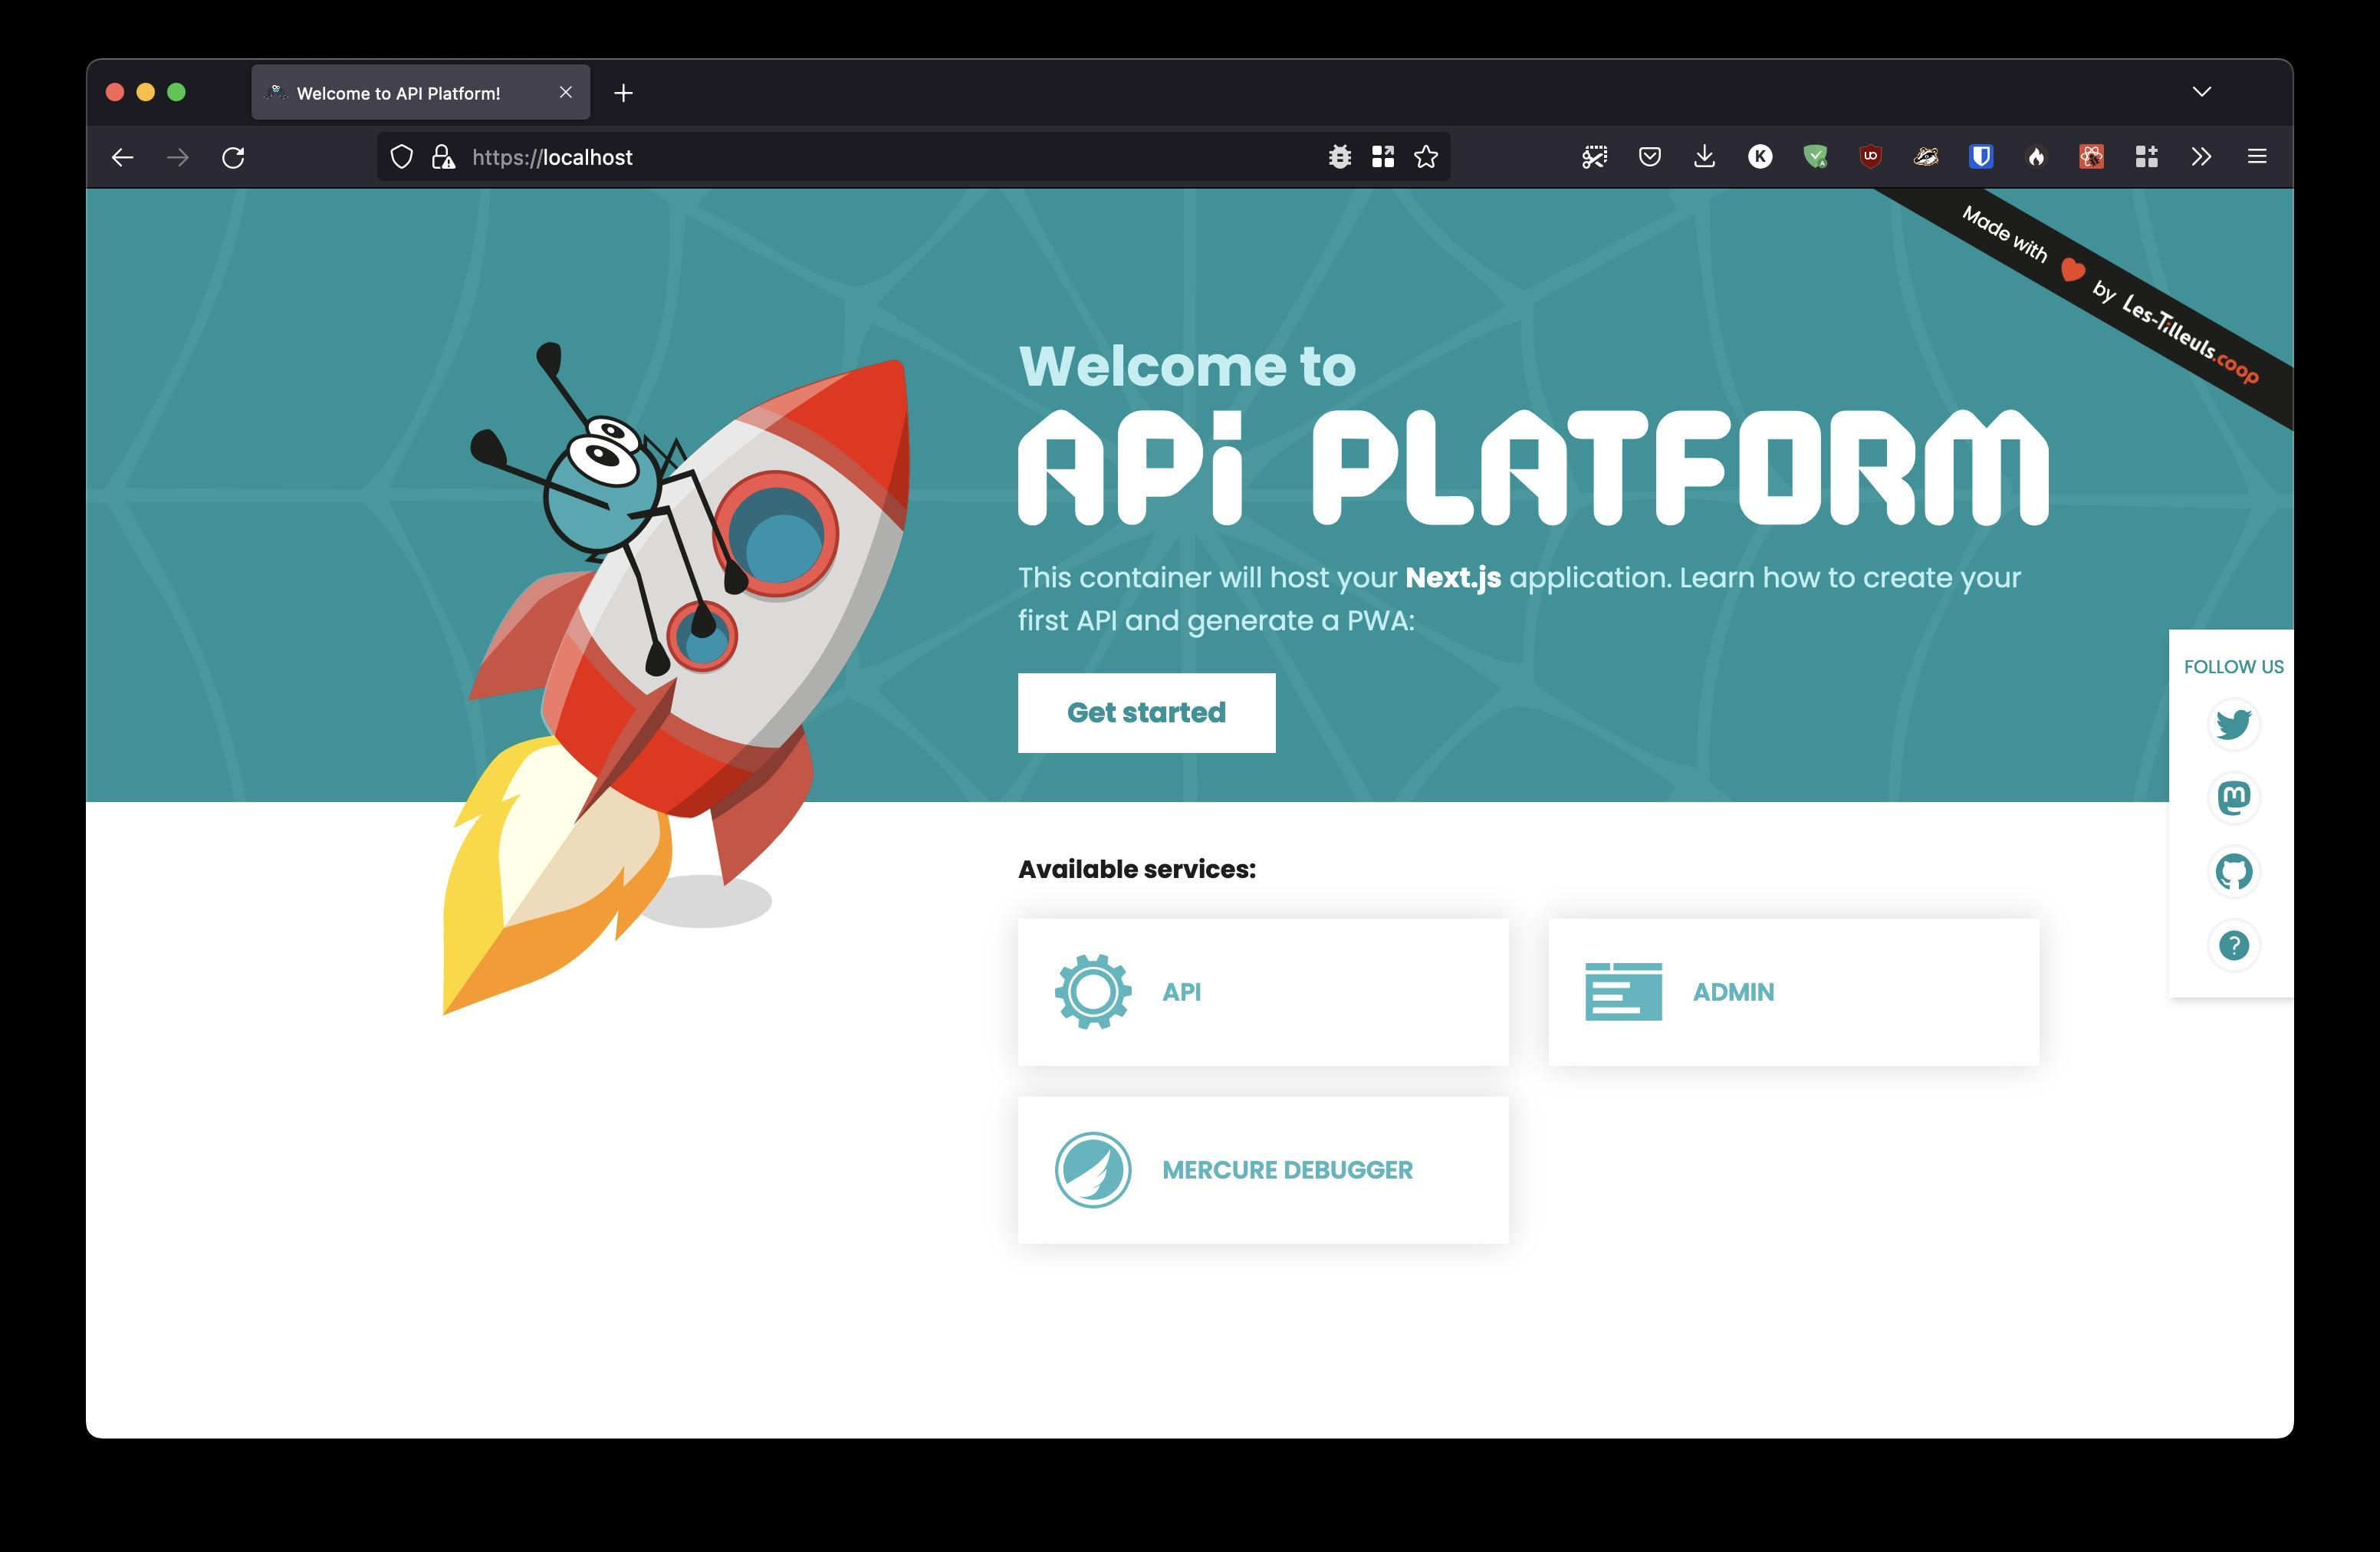button: (1022, 923, 1514, 1070), (1018, 1096, 1507, 1240), (1547, 924, 2043, 1063), (1017, 673, 1277, 753)
icon: (2200, 839, 2272, 910), (2198, 766, 2274, 832), (2201, 694, 2271, 760), (2203, 917, 2272, 981)
